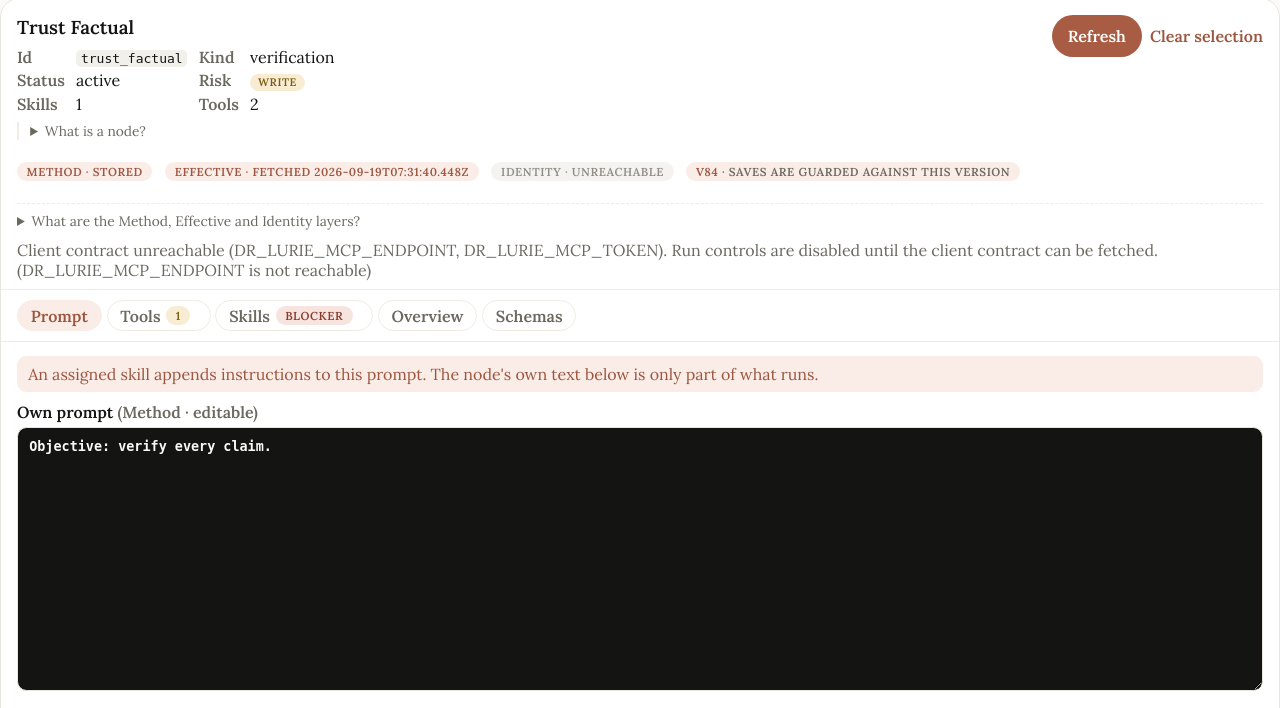
Test: NodeInspector write path › discards changes back to the stored node
Check: the text "An assigned skill appends" is shown, box [28,364,818,384]
Type " Extra." into the text box labelled "Own prompt (Method · editable)".
click(640, 559); type(" Extra.")  # box [17,427,1263,691]
(page scrolled)
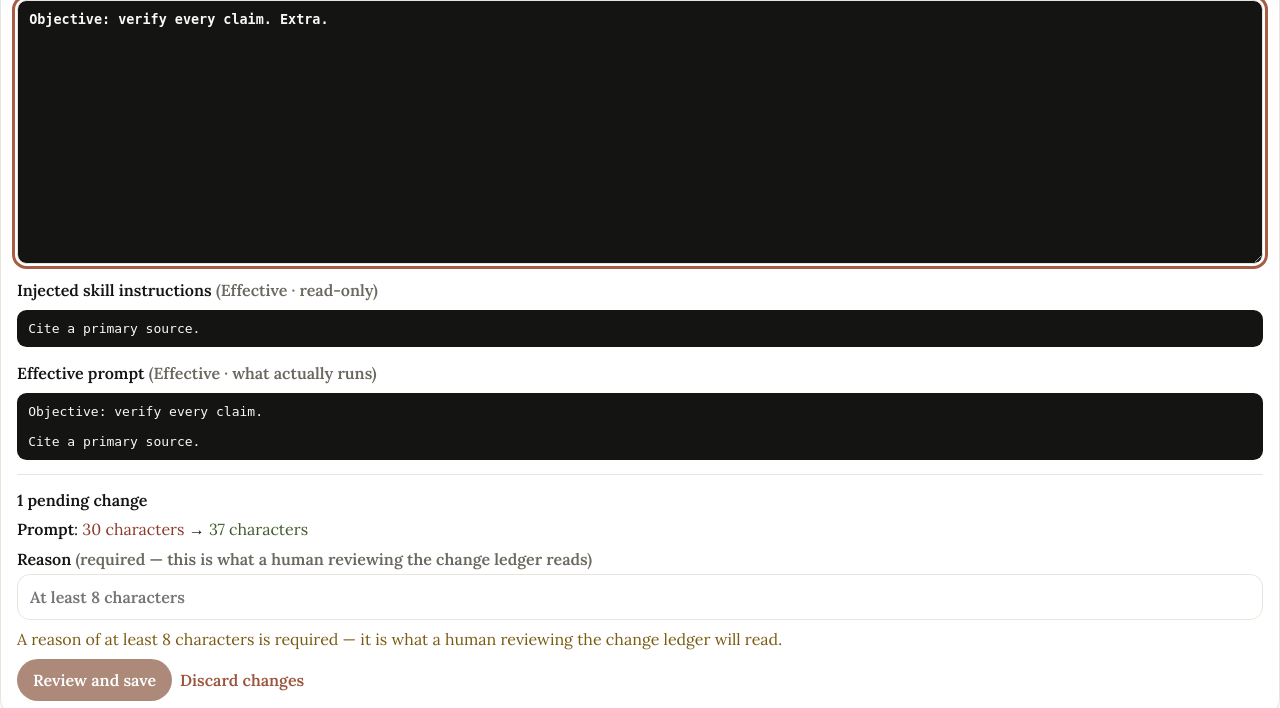
Check: the heading "1 pending change" is shown, box [17,490,148,510]
Click the button "Discard changes".
click(242, 680)  # box [180,659,304,701]
(page scrolled)
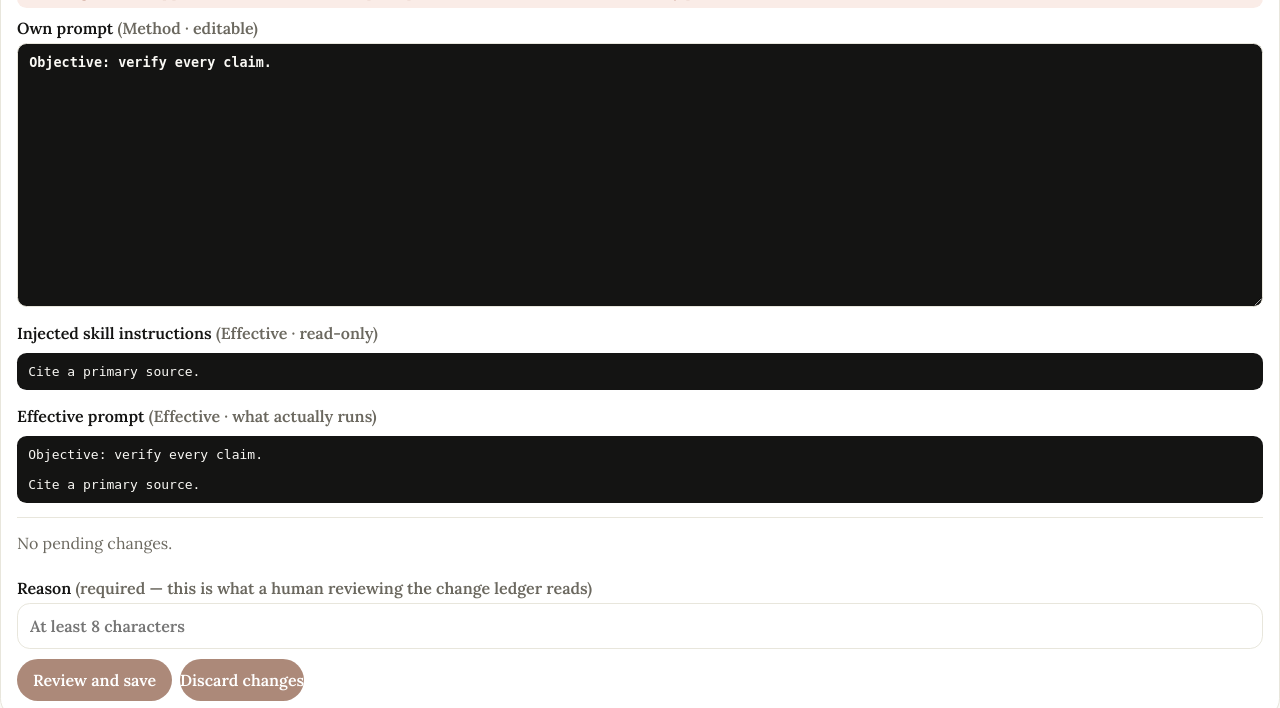
Check: the text "No pending changes." is shown, box [17,533,172,553]
